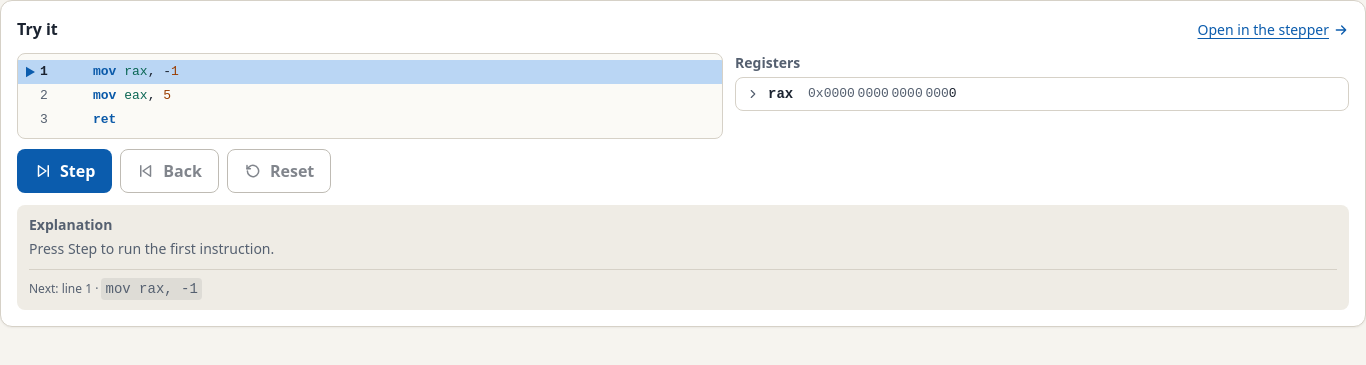
Test: MiniStepper › steps, goes back and resets its own program
Expected: the heading "Try it" is shown, left=17, top=17, right=58, bottom=41
Expected: the element showing "0x0000000000000000" is shown, left=806, top=84, right=959, bottom=104
Click the button "Step": x=65, y=171 left=17, top=149, right=112, bottom=193
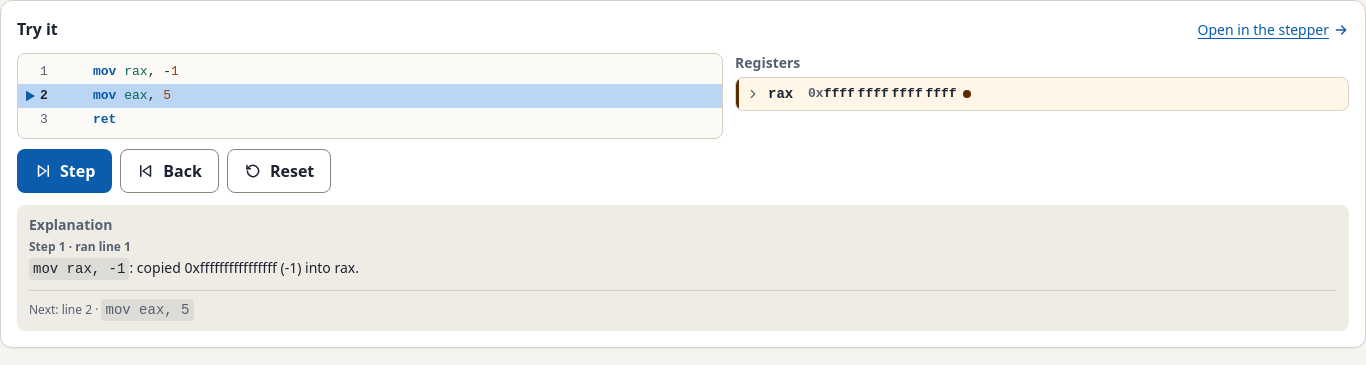
Click the button "Step": x=65, y=171 left=17, top=149, right=112, bottom=193
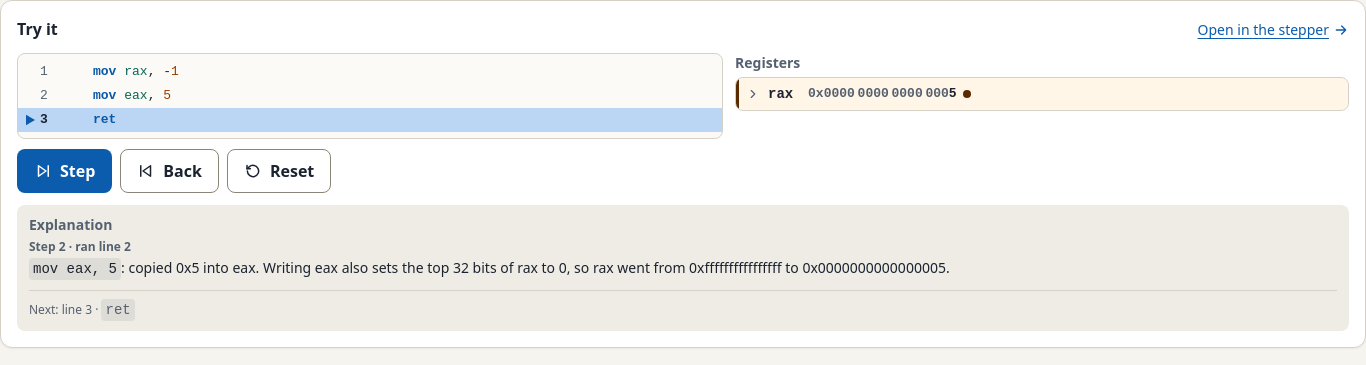
Now the element showing "0x0000000000000005" is shown, box left=806, top=84, right=959, bottom=104
Now the text "Step 2 · ran line 2" is shown, box left=29, top=238, right=131, bottom=255
Click the button "Back": x=170, y=171 left=120, top=149, right=219, bottom=193
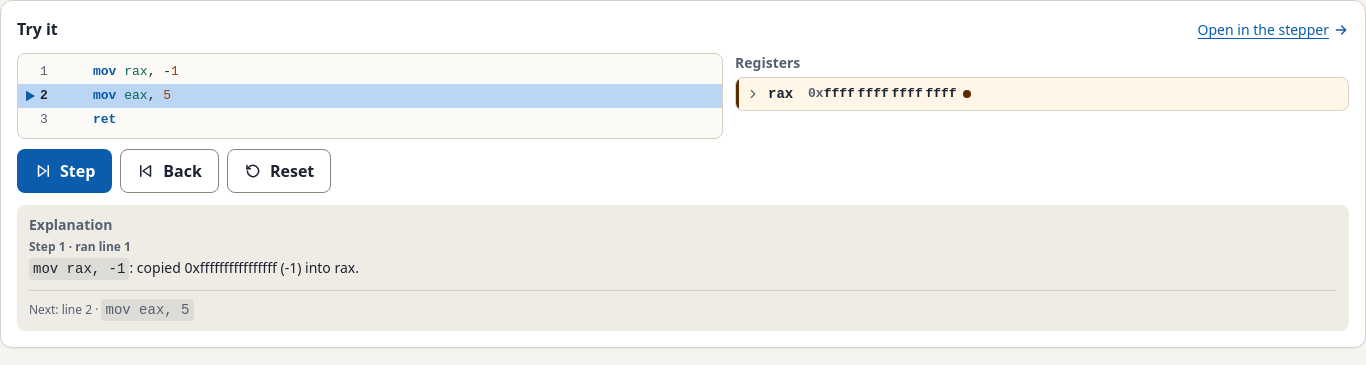
Now the element showing "0xffffffffffffffff" is shown, box left=806, top=84, right=959, bottom=104
Click the button "Reset": x=279, y=171 left=227, top=149, right=331, bottom=193
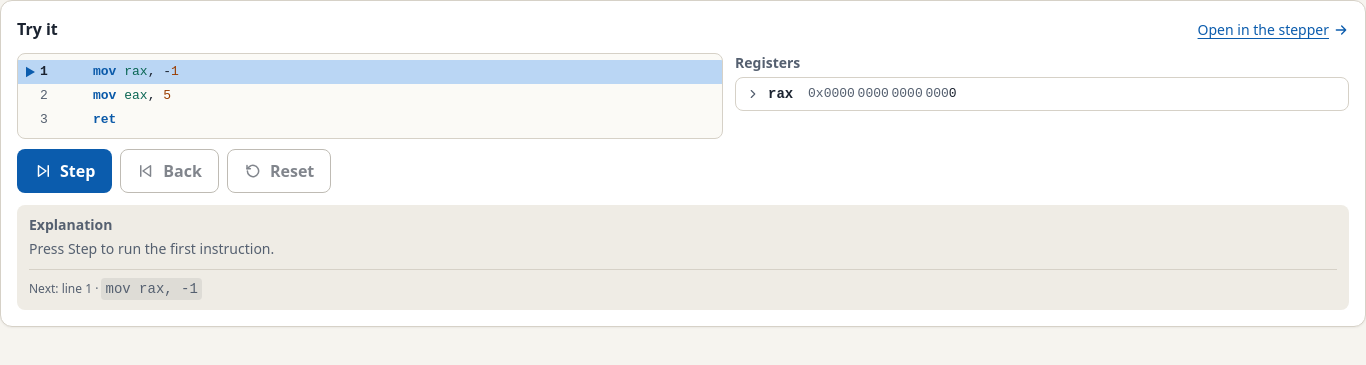
Now the button "Reset" is disabled, box left=227, top=149, right=331, bottom=193
